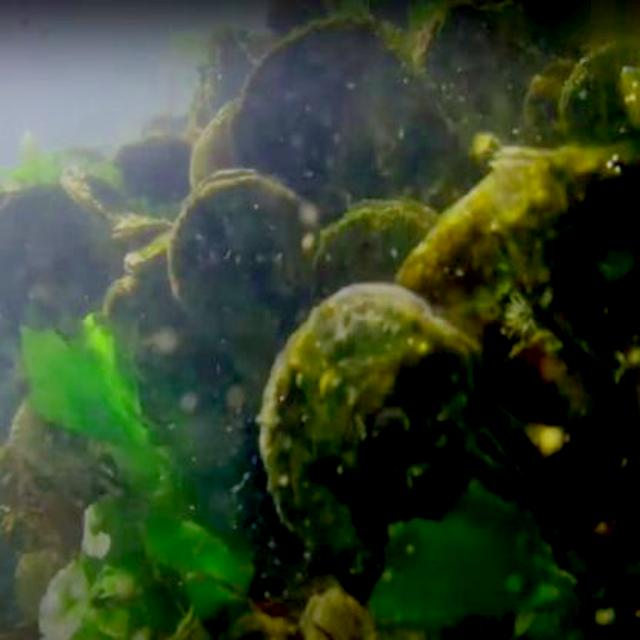Oyster-Closed: (261, 281, 640, 640), (404, 175, 619, 459), (237, 22, 464, 217), (487, 136, 640, 392), (167, 168, 327, 385), (316, 195, 446, 303), (559, 33, 640, 137), (193, 93, 245, 181), (126, 226, 175, 277)
